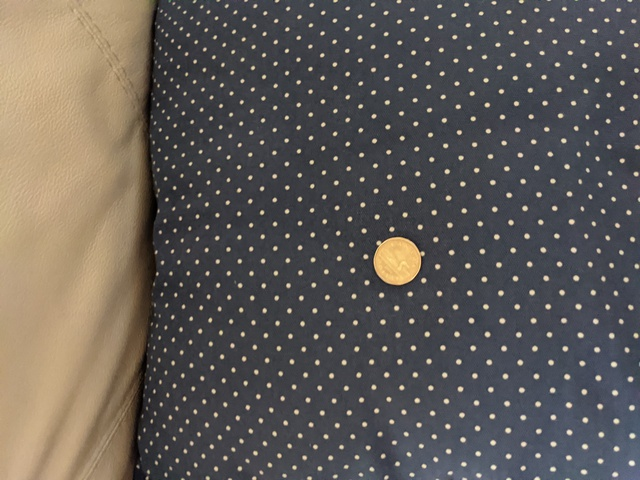loonie: (367, 232, 431, 289)
